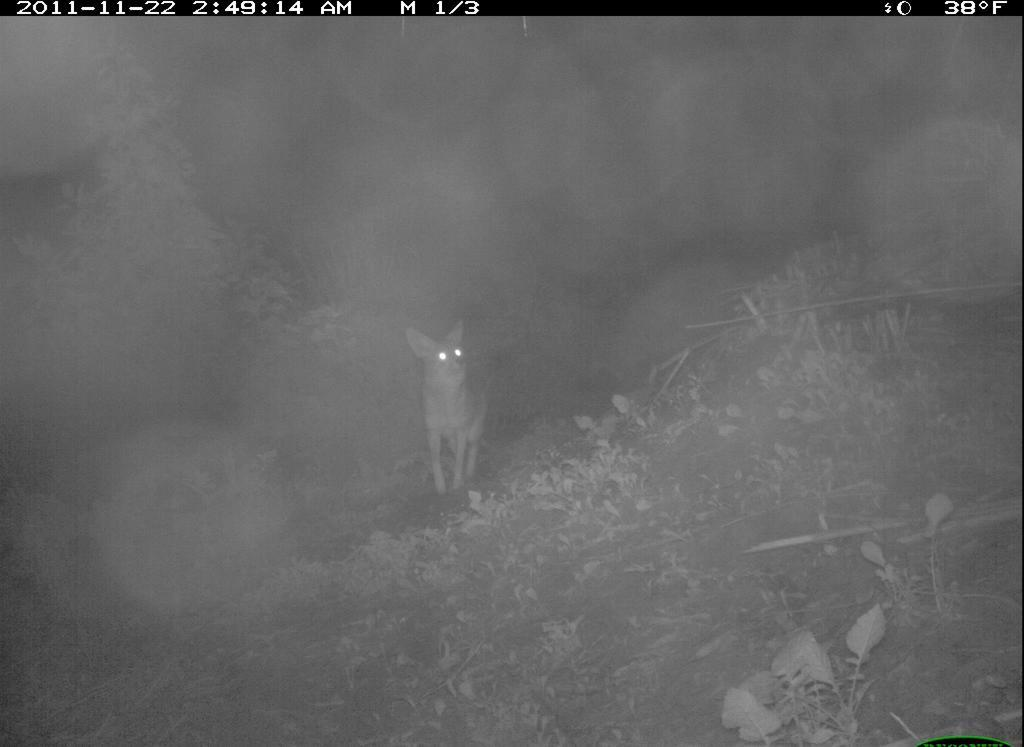coyote: (397, 322, 502, 501)
